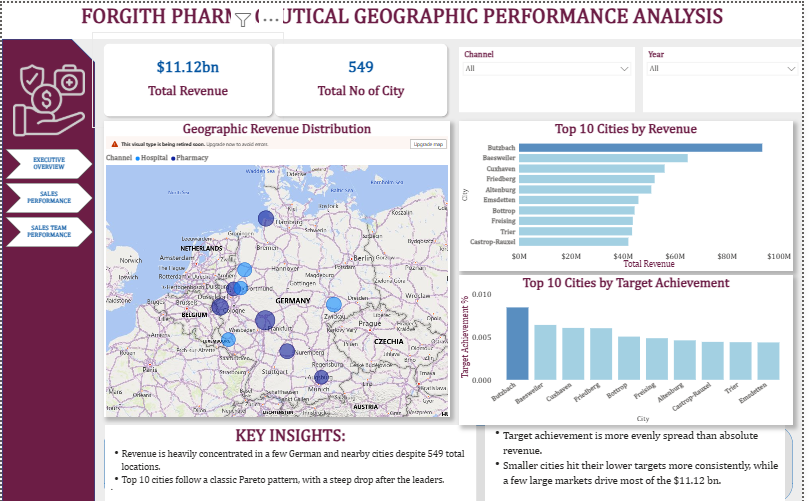

The dashboard page shown, as its layout file describes it:
{"tool":"powerbi","page":{"name":"GEOGRAPHIC ANALYSIS","canvas":[2000,1250],"ordinal":3},"visuals":[{"type":"textbox","box":[0,0,2000,90],"z":0},{"type":"shape","box":[0,90,232.5,1160],"z":1000},{"type":"pageNavigator","box":[7.5,365,220,245],"z":2000},{"type":"cardVisual","fields":{"Data":["MEASURES OVERVIEW.Total Revenue"]},"box":[225,72.5,480,240],"z":3000},{"type":"cardVisual","fields":{"Data":["DimLocation.Total Number of City"]},"box":[652.5,72.5,490,240],"z":4000},{"type":"map","title":"Geographic Revenue Distribution","fields":{"Category":["DimLocation.City"],"Y":["Avg(DimLocation.Latitude)"],"X":["Avg(DimLocation.Longitude)"],"Series":["DimChannel.Channel"],"Size":["MEASURES OVERVIEW.Total Revenue"]},"box":[255,295,865,740],"z":5000},{"type":"barChart","title":"Top 10 Cities by Revenue","fields":{"Y":["MEASURES OVERVIEW.Total Revenue"],"Category":["DimLocation.City"]},"box":[1142.5,295,835,375],"z":6000},{"type":"shape","box":[255,1055,1722.5,195],"z":7000},{"type":"textbox","box":[257.5,1055,927.5,195],"z":8000},{"type":"textbox","box":[1207.5,1055,750,195],"z":9000},{"type":"slicer","fields":{"Values":["DateTable.Year"]},"box":[1602.5,110,397.5,162.5],"z":10000},{"type":"slicer","fields":{"Values":["DimChannel.Channel"]},"box":[1142.5,110,440,162.5],"z":11000},{"type":"columnChart","title":"Top 10 Cities by Target Achievement","fields":{"Category":["DimLocation.City"],"Y":["MEASURES OVERVIEW.Target Achievement %"]},"box":[1142.5,680,835,375],"z":12000},{"type":"image","box":[27.5,122.5,180,242.5],"z":13000}]}

Visuals, with their boxes in screenshot pixels (x1, y1, x2, y2), scaled from the page's 2000x1250 canvas onto the 810x501 screenshot:
textbox: 0, 0, 809, 36
shape: 0, 36, 94, 500
pageNavigator: 3, 146, 92, 244
cardVisual - MEASURES OVERVIEW.Total Revenue: 91, 29, 286, 125
cardVisual - DimLocation.Total Number of City: 264, 29, 463, 125
"Geographic Revenue Distribution" map: 103, 118, 454, 415
"Top 10 Cities by Revenue" barChart: 463, 118, 801, 269
shape: 103, 423, 801, 500
textbox: 104, 423, 480, 500
textbox: 489, 423, 793, 500
slicer - DateTable.Year: 649, 44, 809, 109
slicer - DimChannel.Channel: 463, 44, 641, 109
"Top 10 Cities by Target Achievement" columnChart: 463, 273, 801, 423
image: 11, 49, 84, 146
